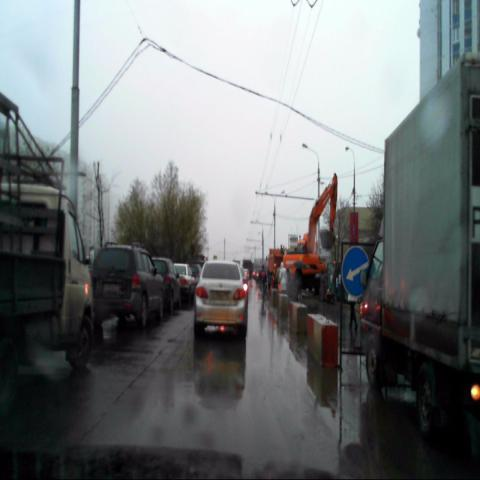4_2_2: (342, 247, 370, 296)
